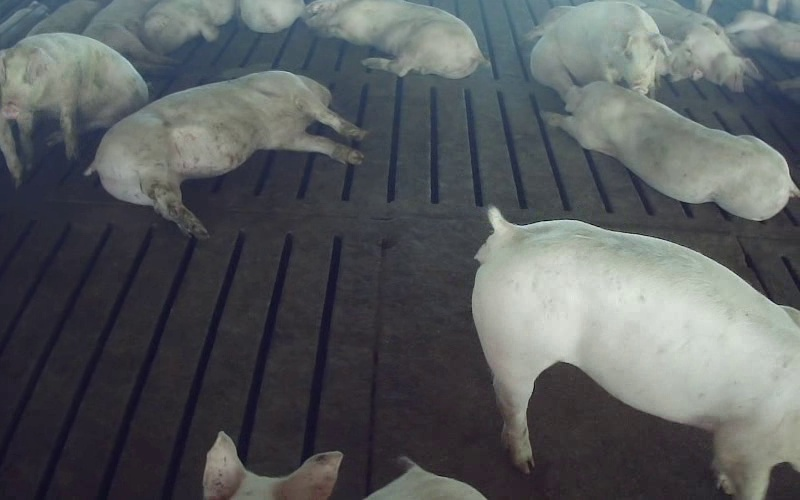pig: (472, 209, 799, 499), (87, 71, 364, 238), (543, 81, 799, 220), (0, 33, 148, 167), (305, 0, 486, 78), (530, 2, 668, 98)
